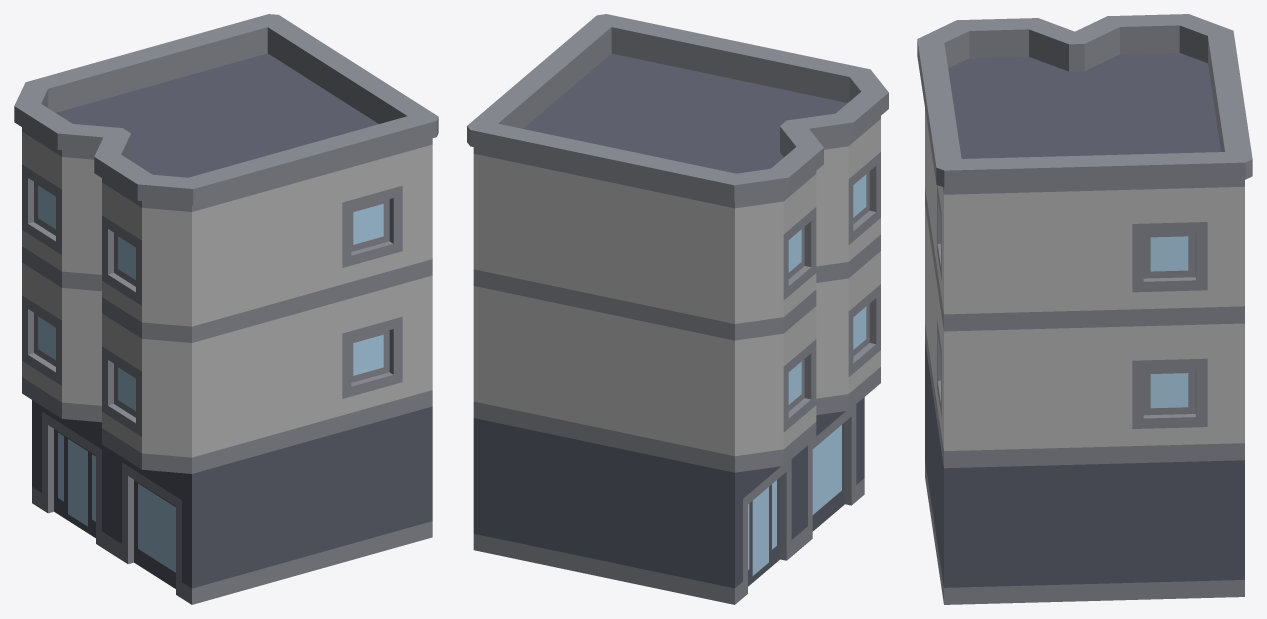
The model's file is variant_13.fbx.
3 views of the same model, side by side, from view 1: azimuth 30°, elevation 25°; view 2: azimuth 150°, elevation 25°; view 3: azimuth 270°, elevation 25° (orthographic). The views are drawn at different scales.
Visible parts, largest first — view 1: small_buildingA; view 2: small_buildingA; view 3: small_buildingA.
Boxes of the visible parts, left/top/right/bottom form: small_buildingA: left=14, top=14, right=438, bottom=604; small_buildingA: left=467, top=14, right=888, bottom=604; small_buildingA: left=917, top=14, right=1252, bottom=604.
Bounding box in the file's own units: 98.26 × 128 × 88.91.
